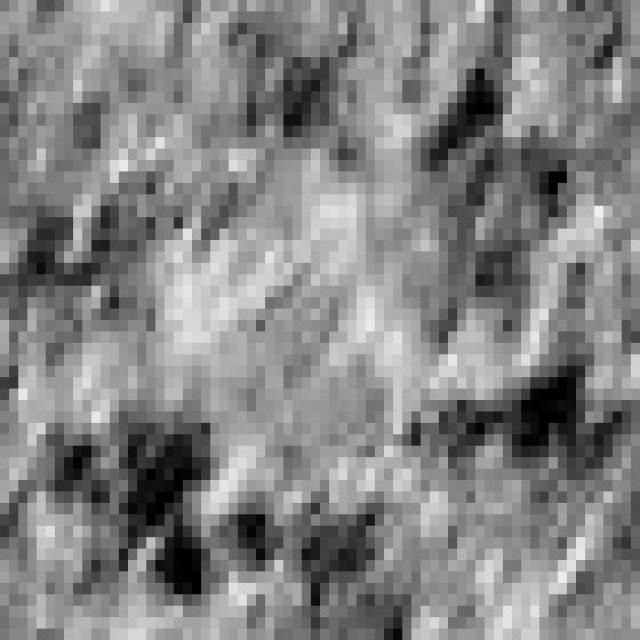inner: (190, 269, 397, 487)
lobe: (374, 46, 585, 357), (408, 334, 639, 596), (190, 4, 385, 251), (25, 396, 233, 614), (210, 492, 509, 638), (0, 165, 198, 375)
outer: (0, 0, 640, 640)
